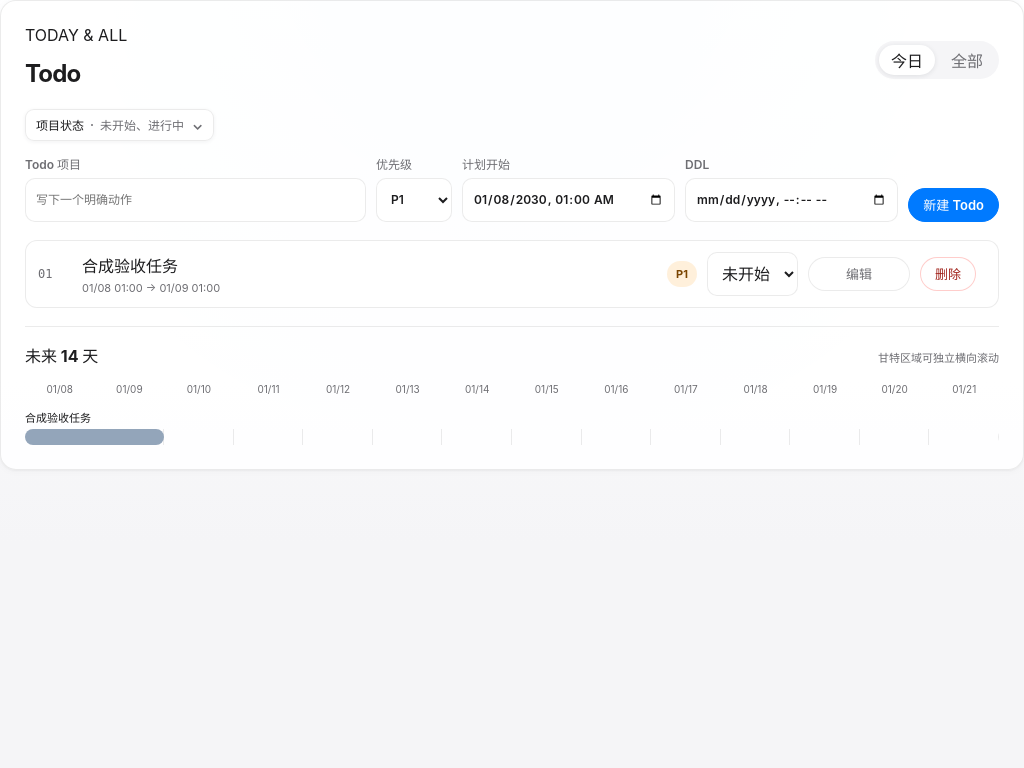
Life Console Todo panel › asks before deleting and removes only the confirmed Todo
Click the button with aria-label "删除合成验收任务" at (948, 274), box [920,257,976,291]
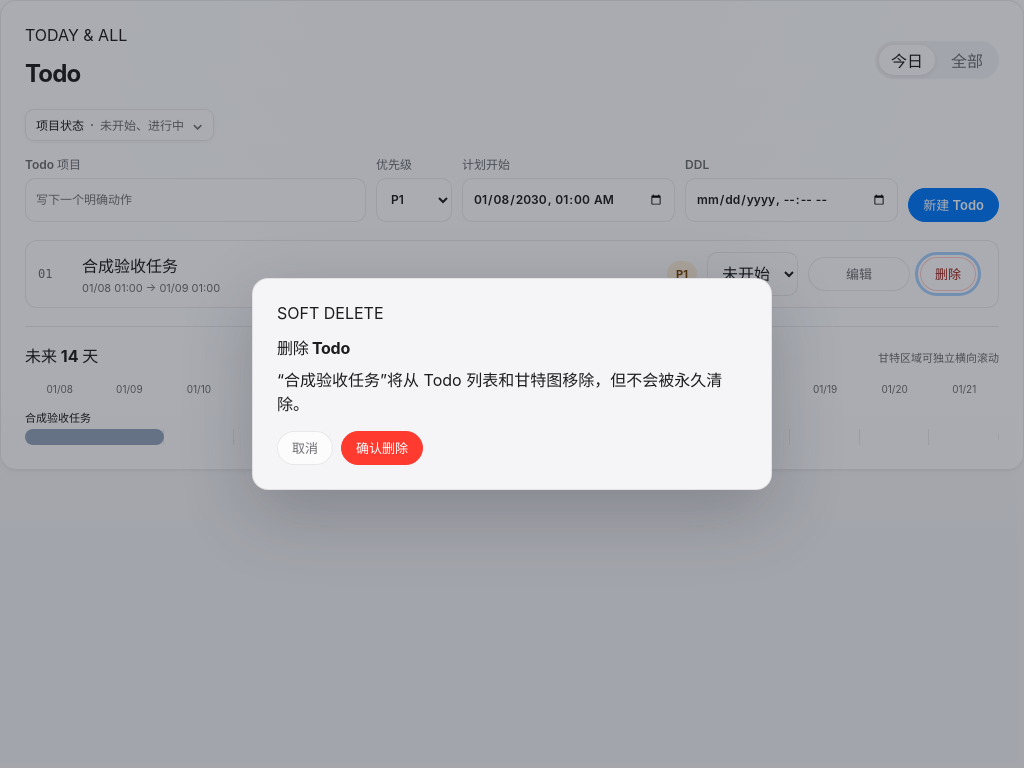
Click the button "取消" at (305, 448), box [277,431,333,465]
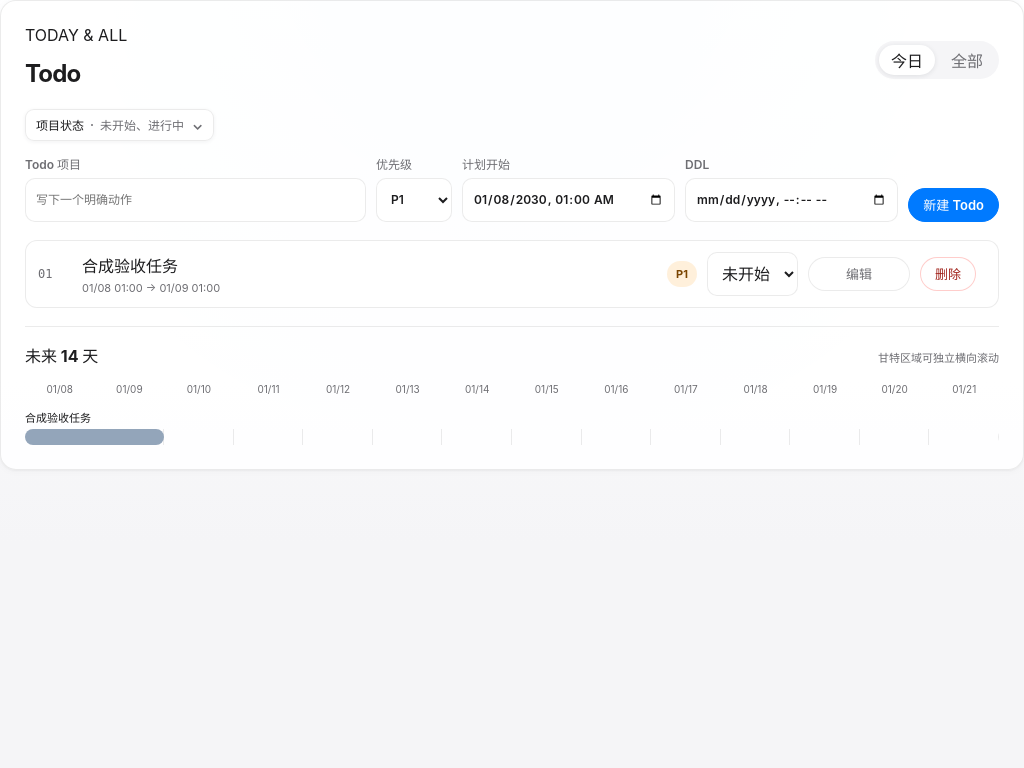
Expected: the element named "Todo 01 合成验收任务" is shown, [25,240,999,308]
Click the button with aria-label "删除合成验收任务" at (948, 274), box [920,257,976,291]
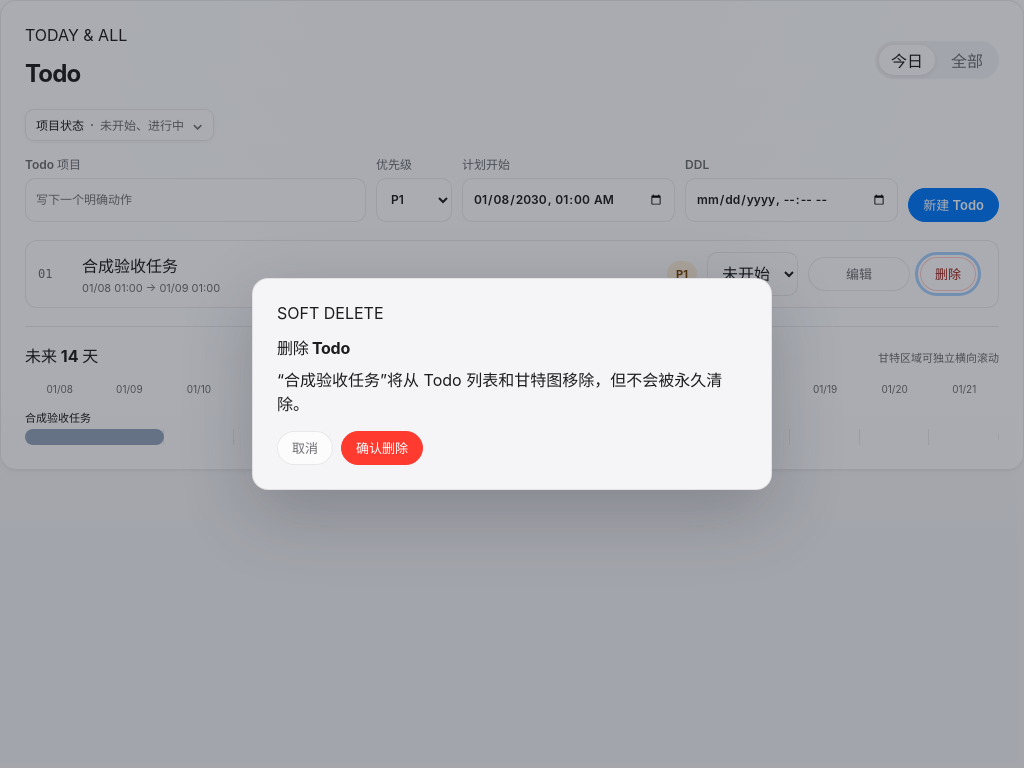
Click the button "确认删除" at (382, 448), box [341,431,423,465]
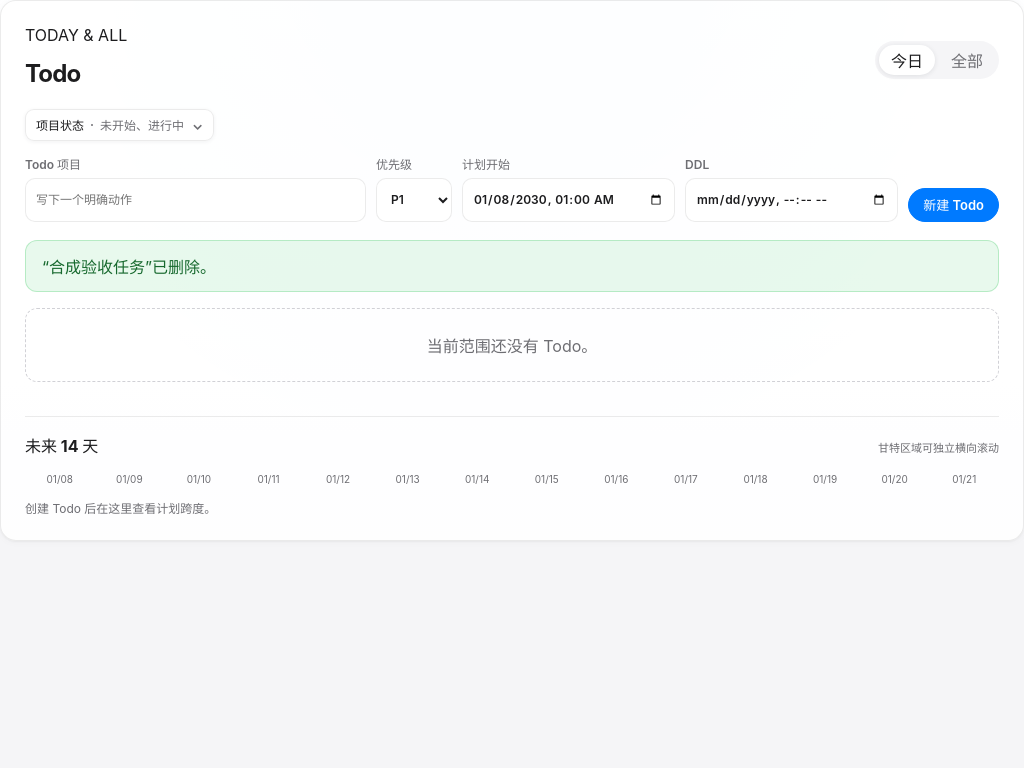
Now the element "Todo 01 合成验收任务" is gone
